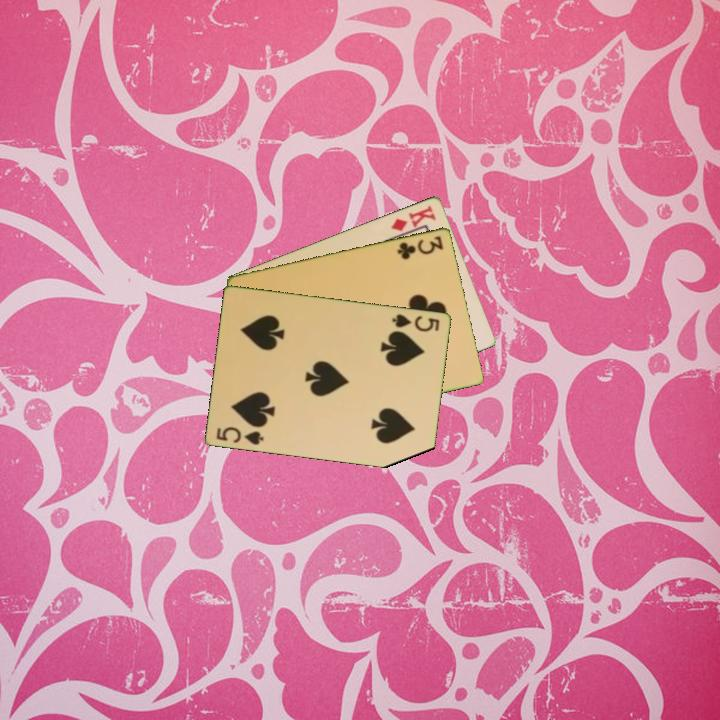3c: (394, 232, 446, 262)
5s: (213, 423, 267, 447), (389, 310, 442, 334)
Kd: (387, 201, 439, 234)
